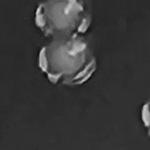colony: (33, 36, 100, 91), (29, 0, 96, 41), (136, 88, 150, 144)
